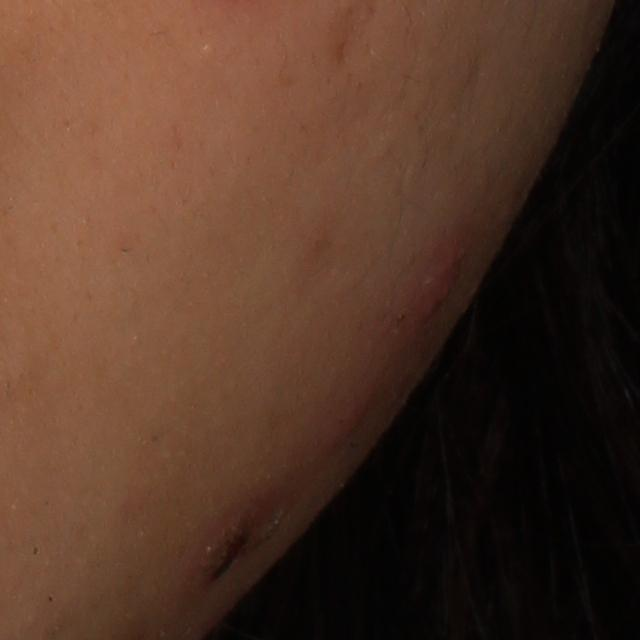papule: (411, 251, 467, 323)
